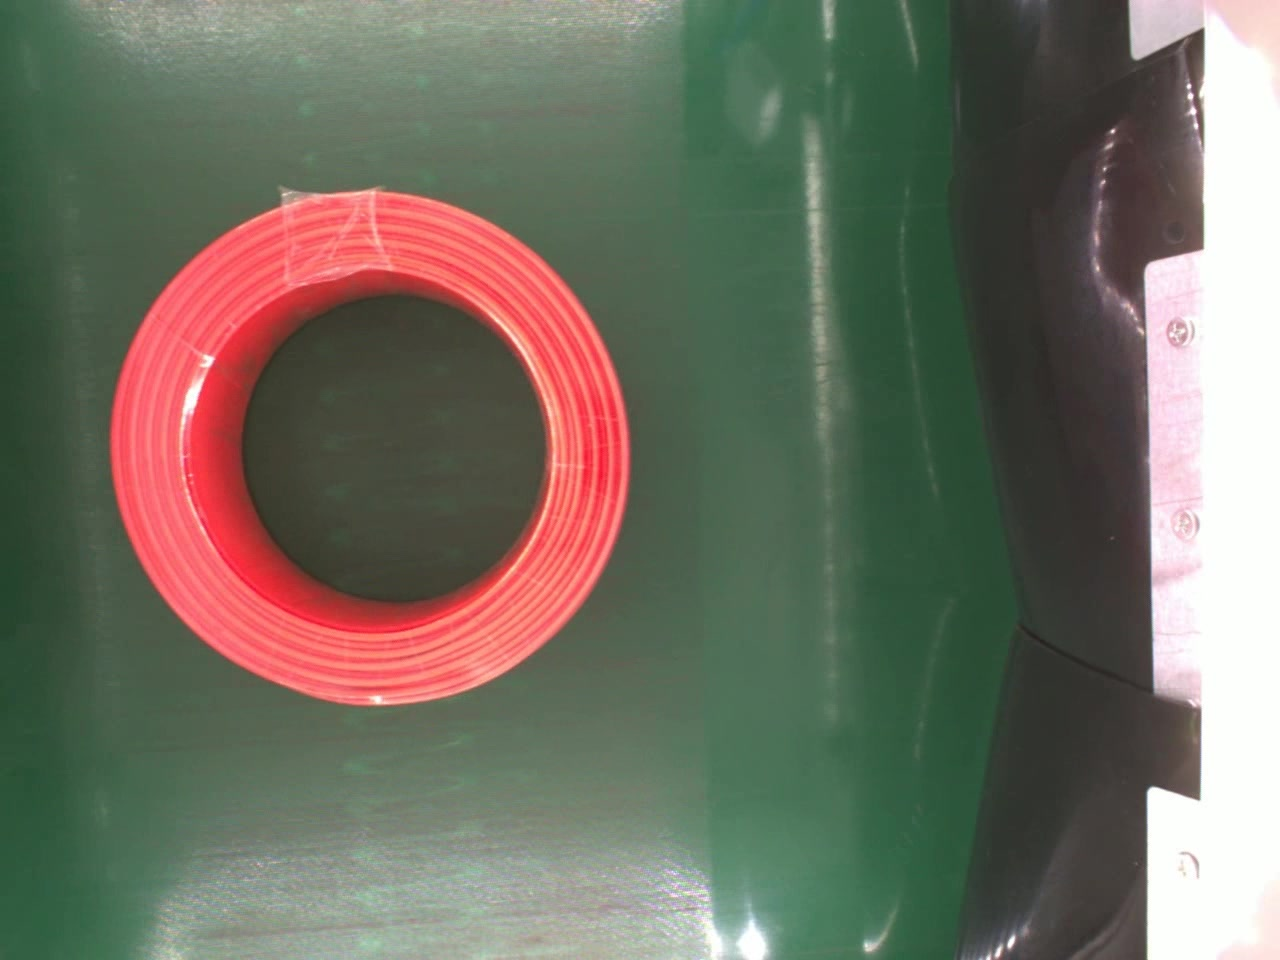red: (107, 191, 637, 714)
